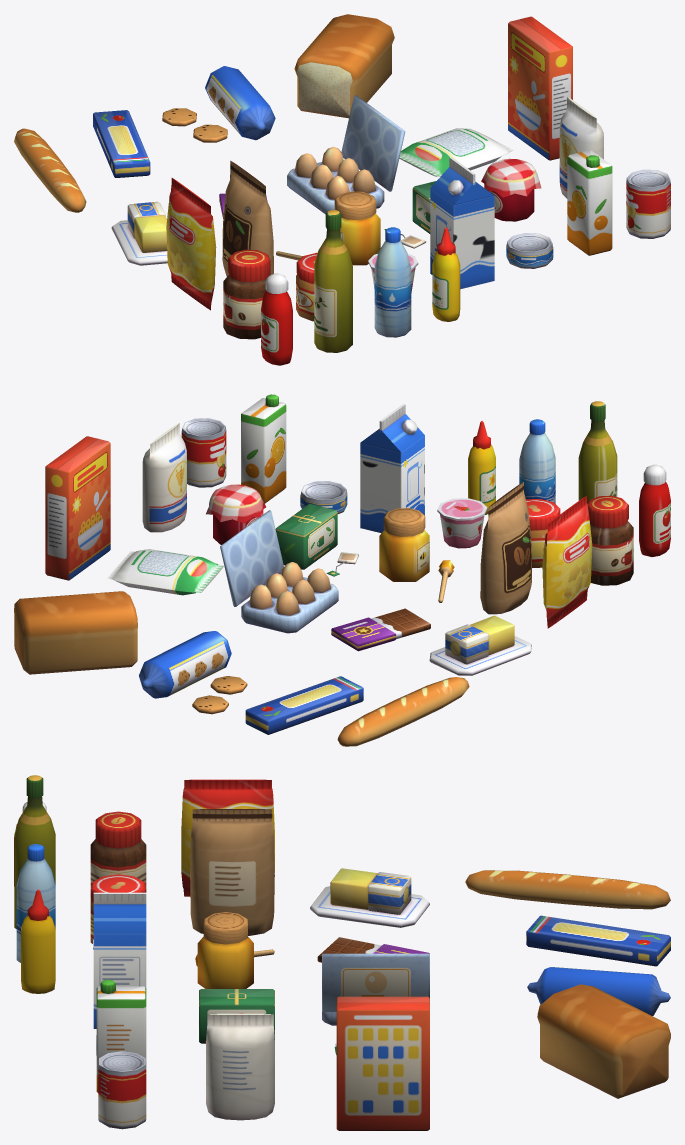
Rendered from grocery_pack.glb.
3 renders of one model, top to bottom at view 1: azimuth 30°, elevation 25°; view 2: azimuth 150°, elevation 25°; view 3: azimuth 270°, elevation 25°, orthographic. The views are drawn at different scales.
Visible parts, largest first — view 1: BreadLoaf, CerealBox, EggCarton, MilkCarton, ChipsBag, OliveOilBottle, JuiceCarton, CookiesPack, CoffeeBag, WaterBottle, CoffeeJar, RiceBag (+12 smaller); view 2: BreadLoaf, CerealBox, EggCarton, MilkCarton, CoffeeBag, ChipsBag, CookiesPack, JuiceCarton, FlourBag, Butter, RiceBag, HoneyJar (+14 smaller); view 3: CerealBox, BreadLoaf, CoffeeBag, FlourBag, Baguette, MilkCarton, EggCarton, Butter, SpaghettiPack, HoneyJar, ChipsBag, JuiceCarton (+9 smaller).
Part boxes in pixels (bbox=[...]): BreadLoaf: bbox=[294, 14, 394, 118]; CerealBox: bbox=[508, 16, 572, 160]; EggCarton: bbox=[287, 95, 405, 214]; MilkCarton: bbox=[430, 157, 494, 289]; ChipsBag: bbox=[166, 178, 216, 310]; OliveOilBottle: bbox=[314, 210, 352, 352]; JuiceCarton: bbox=[567, 150, 612, 255]; CookiesPack: bbox=[162, 66, 275, 142]; CoffeeBag: bbox=[222, 160, 273, 276]; WaterBottle: bbox=[374, 227, 411, 337]; CoffeeJar: bbox=[223, 249, 270, 339]; RiceBag: bbox=[399, 128, 513, 177]; BreadLoaf: bbox=[14, 591, 137, 674]; CerealBox: bbox=[45, 436, 110, 580]; EggCarton: bbox=[220, 510, 338, 633]; MilkCarton: bbox=[360, 404, 424, 533]; CoffeeBag: bbox=[480, 481, 531, 614]; ChipsBag: bbox=[542, 495, 592, 628]; CookiesPack: bbox=[139, 631, 247, 714]; JuiceCarton: bbox=[241, 394, 286, 503]; FlourBag: bbox=[142, 423, 186, 532]; Butter: bbox=[429, 615, 531, 675]; RiceBag: bbox=[107, 549, 223, 595]; HoneyJar: bbox=[379, 508, 454, 602]; CerealBox: bbox=[336, 996, 429, 1130]; BreadLoaf: bbox=[537, 984, 670, 1098]; CoffeeBag: bbox=[190, 809, 274, 935]; FlourBag: bbox=[206, 1013, 274, 1120]; Baguette: bbox=[465, 870, 670, 909]; MilkCarton: bbox=[93, 892, 146, 1028]; EggCarton: bbox=[322, 953, 429, 1025]; Butter: bbox=[310, 868, 429, 927]; SpaghettiPack: bbox=[526, 915, 670, 966]; HoneyJar: bbox=[195, 912, 274, 988]; ChipsBag: bbox=[181, 779, 274, 896]; JuiceCarton: bbox=[96, 979, 146, 1092].
Bounding box in the file's own units: 1.96 × 0.562 × 2.25.
Materials: 3 (3 with a texture image).
